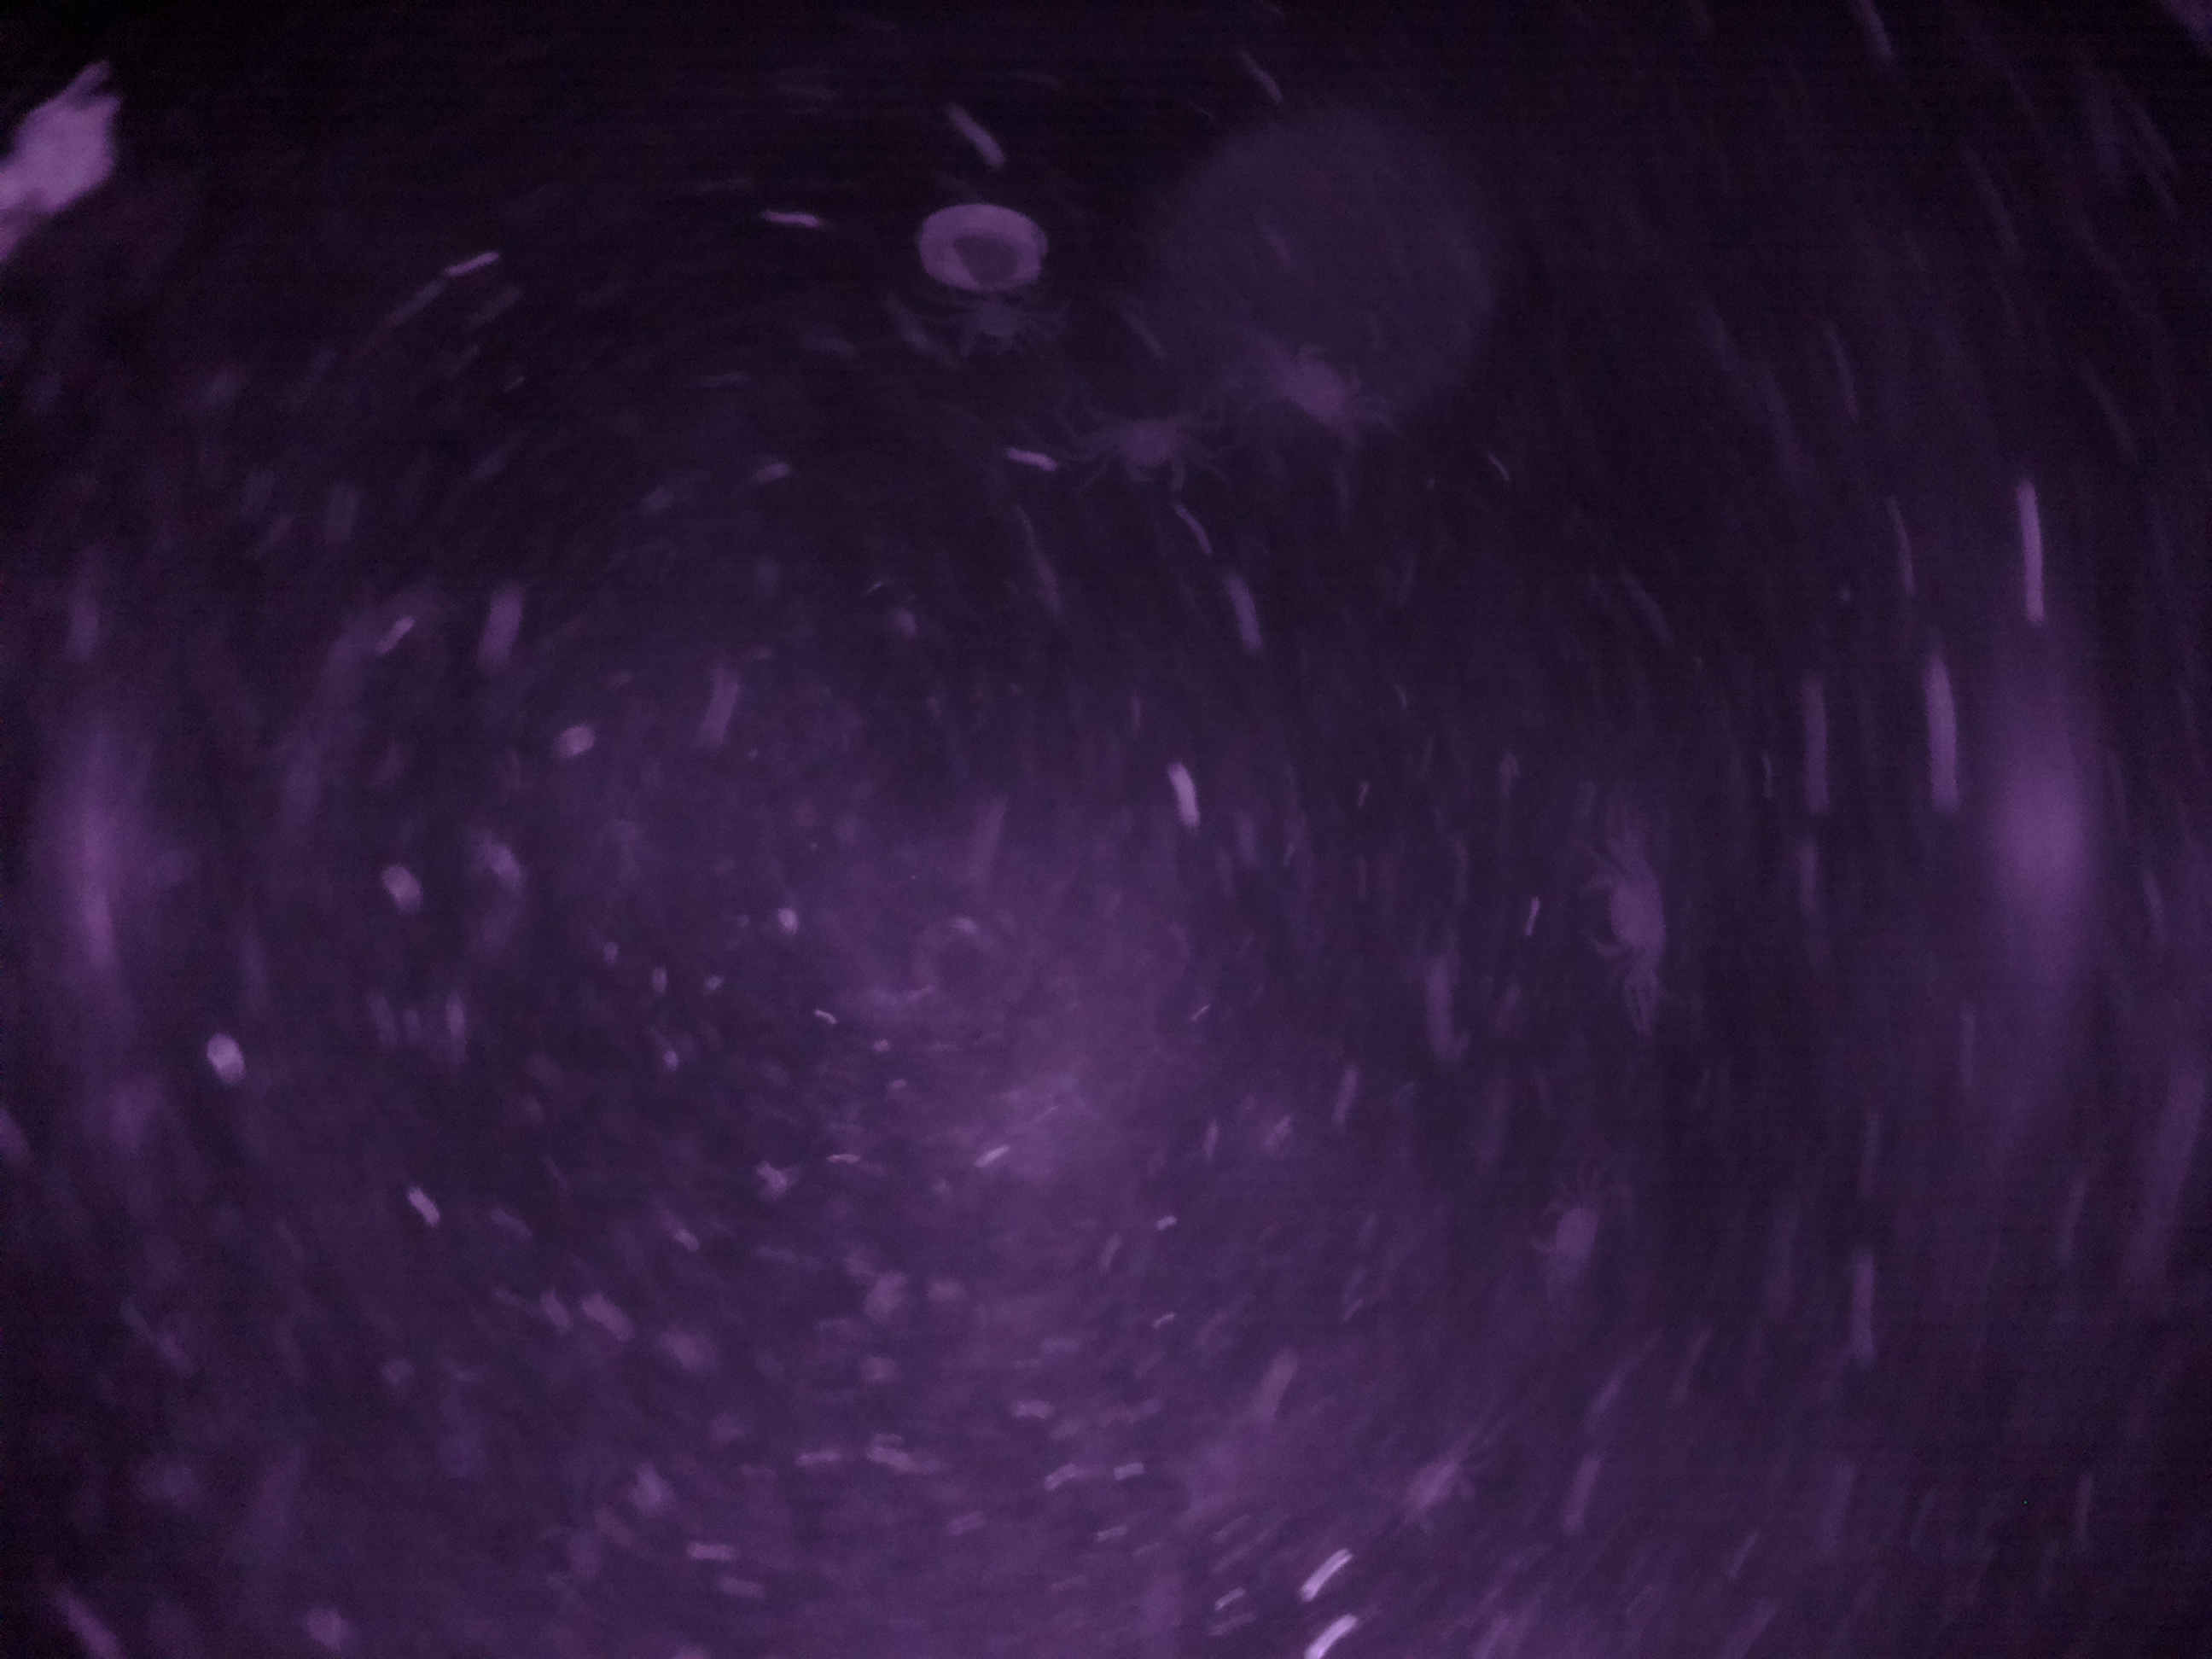Crab: (1566, 866, 1703, 983)
